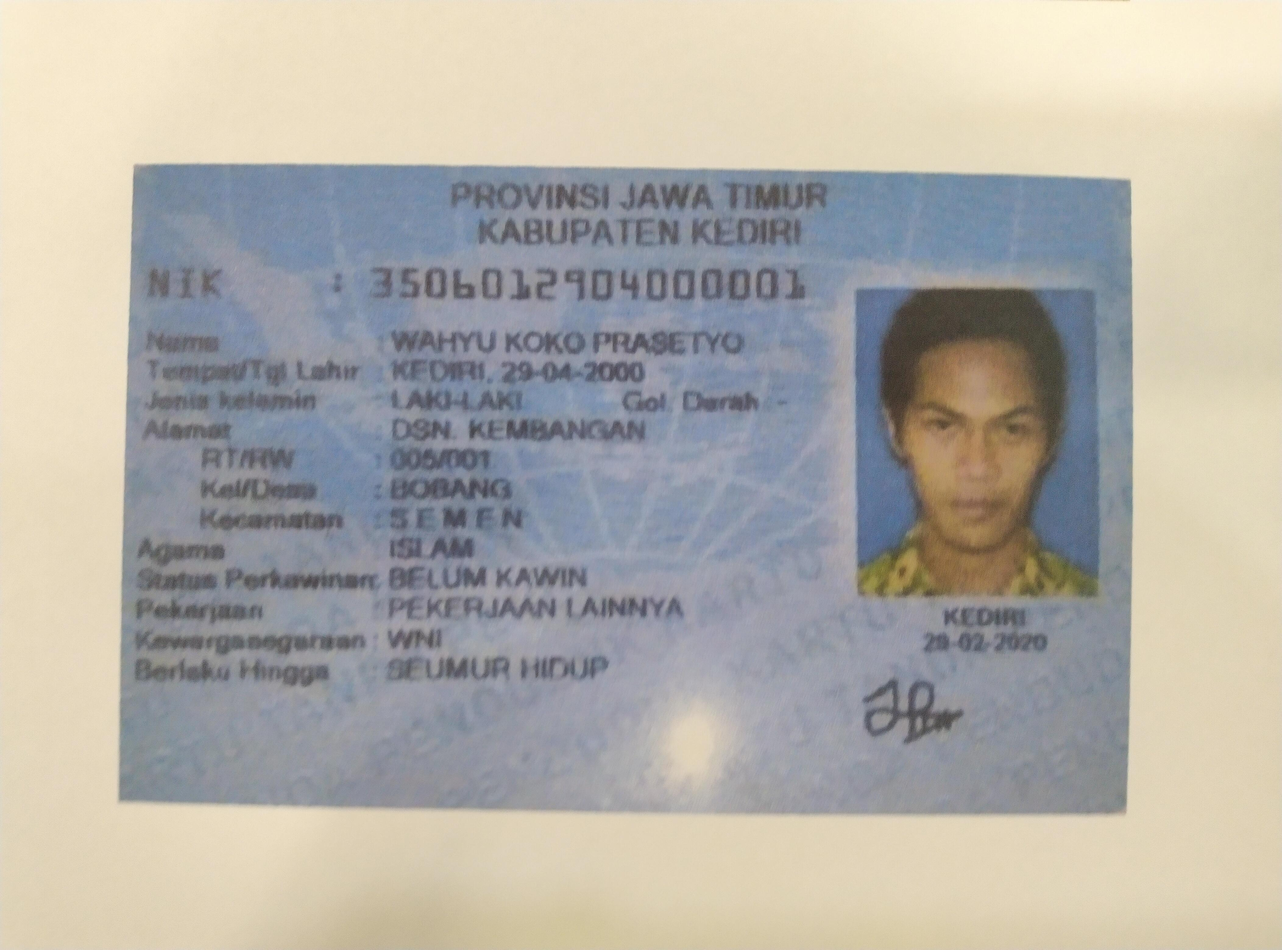ID-card: (128, 167, 1130, 803)
